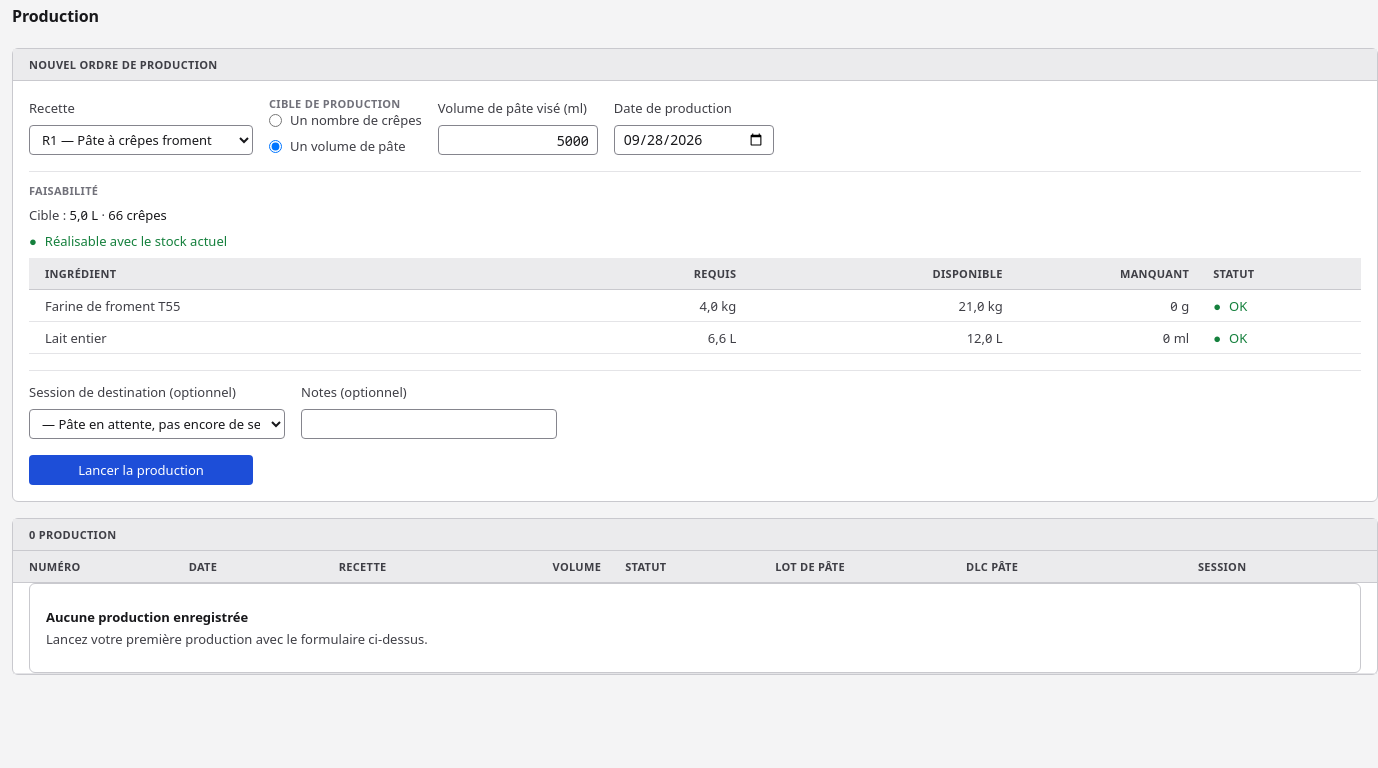
Test: Production — lancer une production › sans prévision archivée pour la session choisie, l’écran le DIT — il n’en invente pas une
The width and height of the screenshot is (1378, 768).
Expected: the dropdown labelled "Recette" is shown, left=29, top=125, right=253, bottom=155
Expected: the table that starts with "Ingrédient" is shown, left=29, top=258, right=1361, bottom=354
Select "SM-2026-0002 — 02/08/2026 — La Batte" in the dropdown labelled "Session de destination (optionnel)": (157, 424) left=29, top=409, right=285, bottom=439
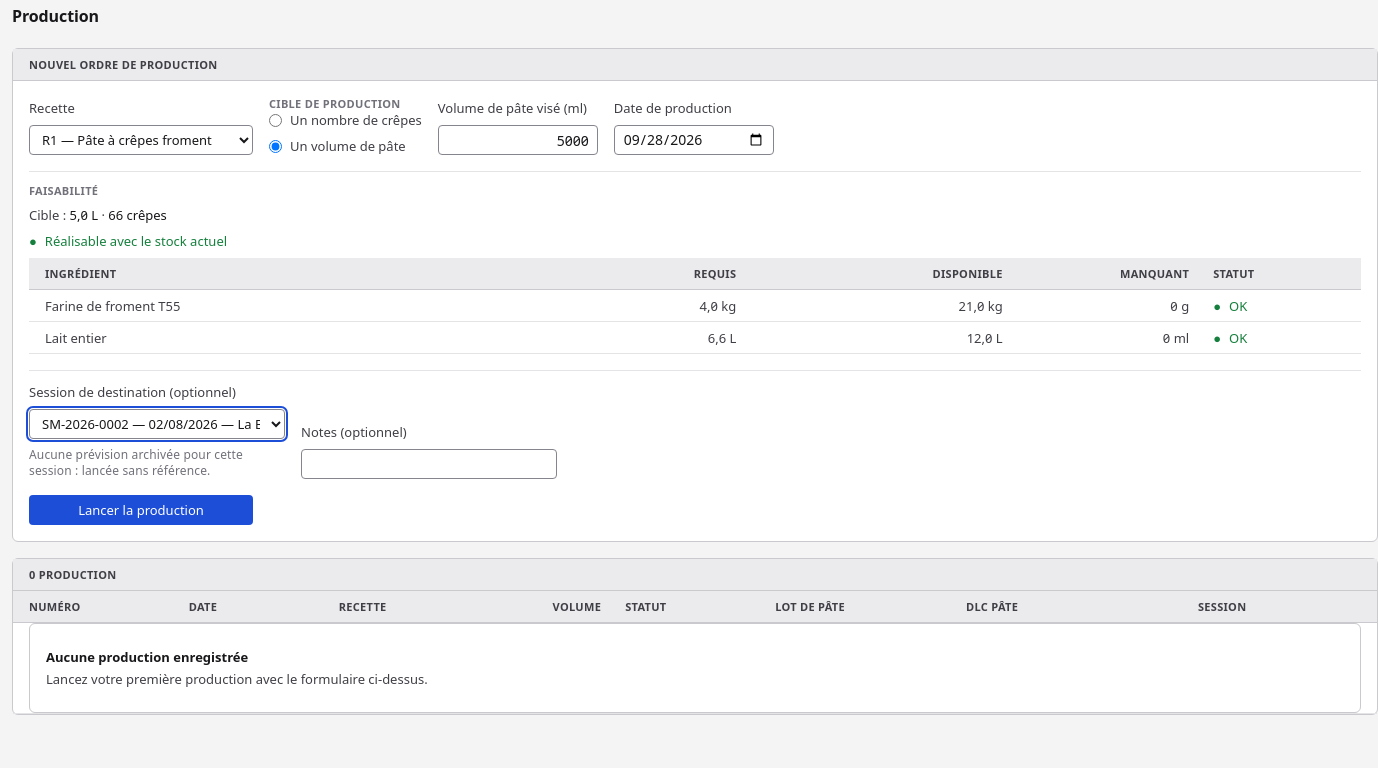
Expected: the text "Aucune prévision archivée pour cette session : lancée sans référence." is shown, left=29, top=446, right=243, bottom=479
